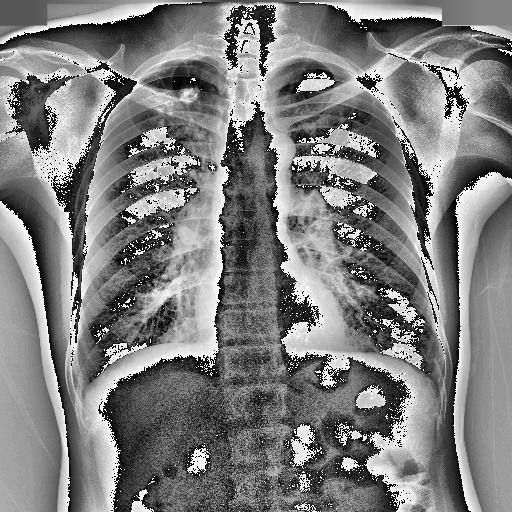0- Aortic enlargement: (259, 133, 295, 169)
10- Pleural effusion: (71, 378, 89, 407)
11- Pleural thickening: (138, 48, 214, 87), (138, 53, 202, 76), (71, 378, 89, 407)
13- Pulmonary fibrosis: (150, 82, 206, 148), (156, 84, 208, 140), (408, 297, 442, 376), (150, 85, 200, 136), (338, 95, 380, 142), (337, 102, 382, 136), (412, 342, 445, 380), (340, 100, 373, 138)
2- Calcification: (150, 85, 200, 136), (178, 88, 198, 104)
7- Lung Opacity: (414, 324, 446, 382)
8- Nodule-Mass: (178, 88, 198, 104)
9- Other lesion: (412, 342, 445, 380)
